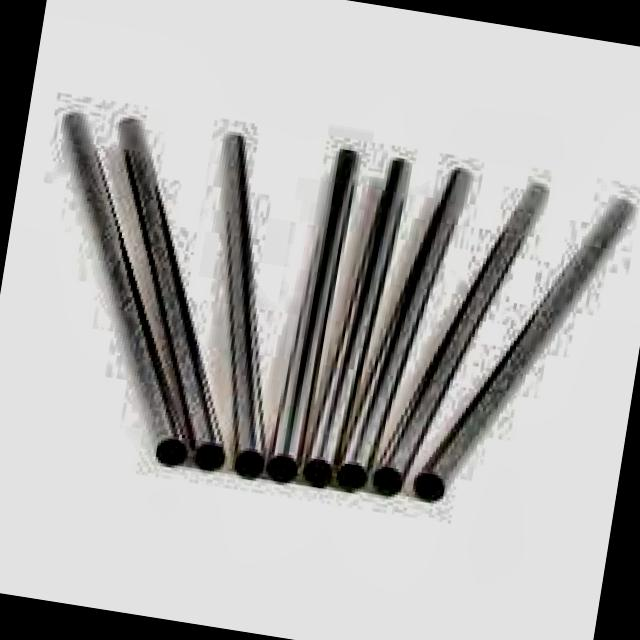plastic straw: (415, 200, 631, 500), (373, 186, 547, 493), (63, 113, 189, 466), (338, 169, 471, 490), (121, 119, 225, 469), (266, 151, 354, 482), (311, 160, 403, 465), (224, 134, 265, 477)
